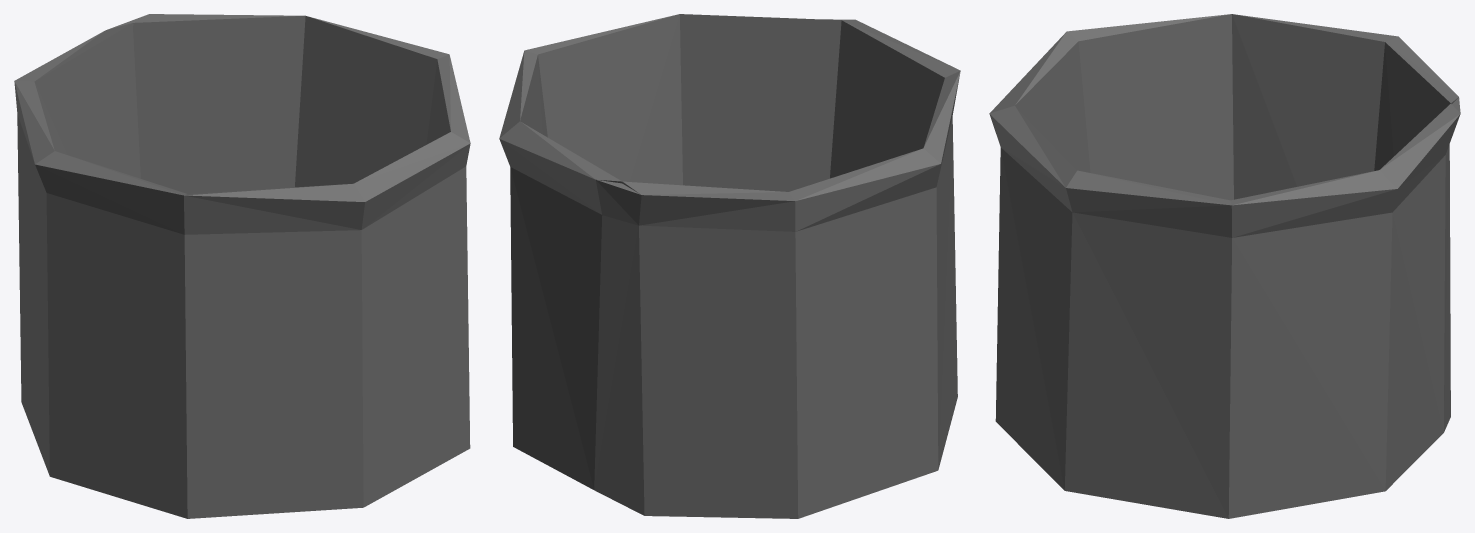
File: AWS_Cooking_Pot_004.fbx
3 renders of one model, left to right at view 1: azimuth 30°, elevation 25°; view 2: azimuth 150°, elevation 25°; view 3: azimuth 270°, elevation 25°, orthographic.
Parts seen in each view (by area): view 1: AWS_Cooking_Pot_004; view 2: AWS_Cooking_Pot_004; view 3: AWS_Cooking_Pot_004.
Boxes of the visible parts, bbox=[...] form: AWS_Cooking_Pot_004: bbox=[14, 14, 470, 518]; AWS_Cooking_Pot_004: bbox=[499, 14, 960, 518]; AWS_Cooking_Pot_004: bbox=[989, 14, 1460, 518].
Bounding box in the file's own units: 22.44 × 17.04 × 22.24.
